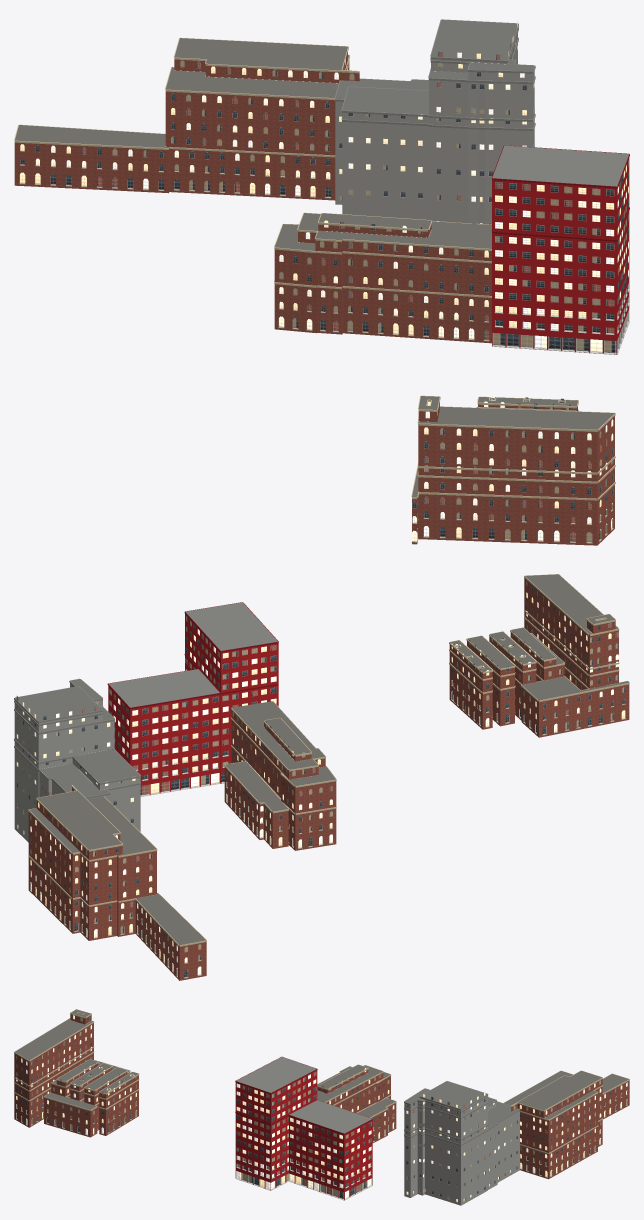
The model's file is loewenbraeu.glb.
3 views of the same model, one above another, from view 1: azimuth 30°, elevation 25°; view 2: azimuth 150°, elevation 25°; view 3: azimuth 270°, elevation 25° (orthographic). The views are drawn at different scales.
Visible parts, largest first — view 1: loewenbraeu; view 2: loewenbraeu; view 3: loewenbraeu.
Boxes of the visible parts, <box> form: loewenbraeu: <box>14,19,629,545</box>; loewenbraeu: <box>14,574,629,980</box>; loewenbraeu: <box>14,1009,629,1205</box>.
Size of the model in its own units: 120 by 44.28 by 248.
Materials: 3 (3 with a texture image).
